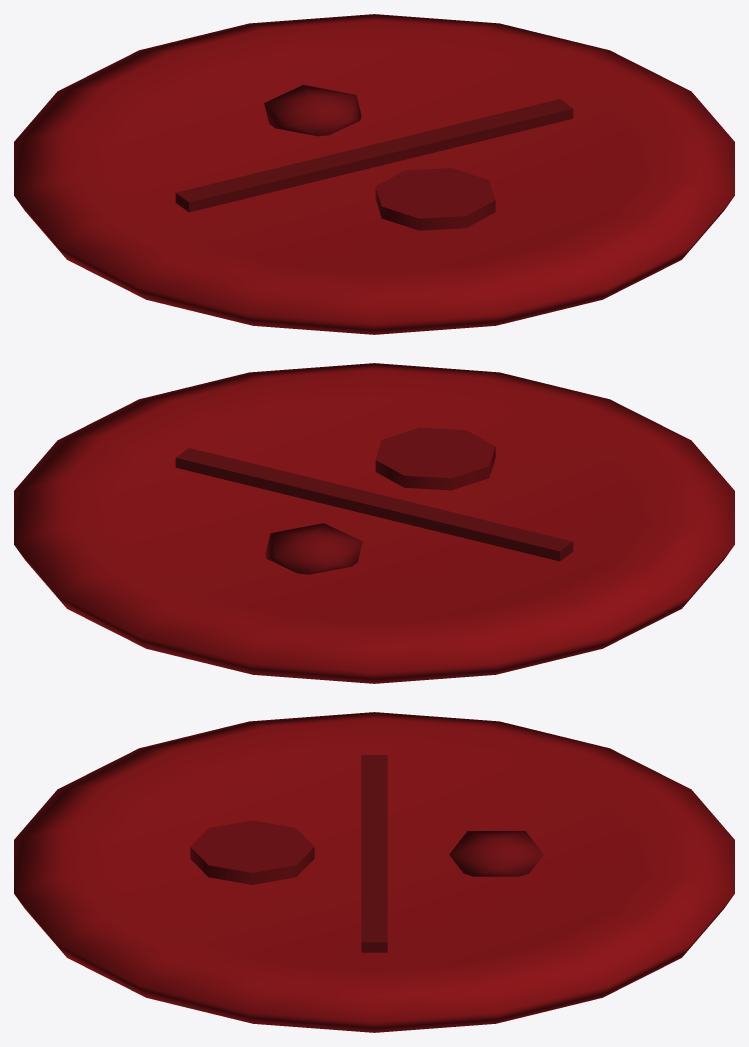
The model's file is treaty_wax.glb.
3 views of the same model, one above another, from view 1: azimuth 30°, elevation 25°; view 2: azimuth 150°, elevation 25°; view 3: azimuth 270°, elevation 25° (orthographic).
Parts seen in each view (by area): view 1: treaty_wax; view 2: treaty_wax; view 3: treaty_wax.
Boxes of the visible parts, <box> form: treaty_wax: <box>14,14,734,334</box>; treaty_wax: <box>14,363,734,683</box>; treaty_wax: <box>14,712,734,1032</box>.
Bounding box in the file's own units: 0.33 × 0.0215 × 0.325.
